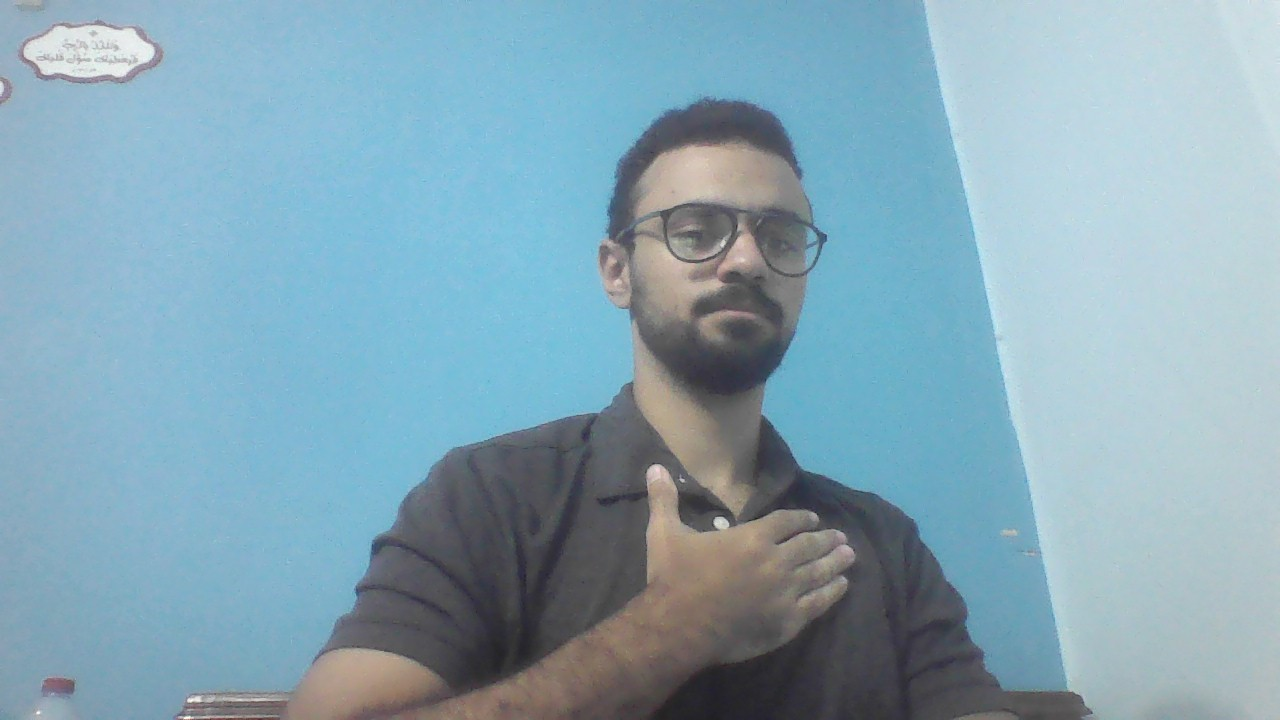please: (642, 468, 856, 665)
